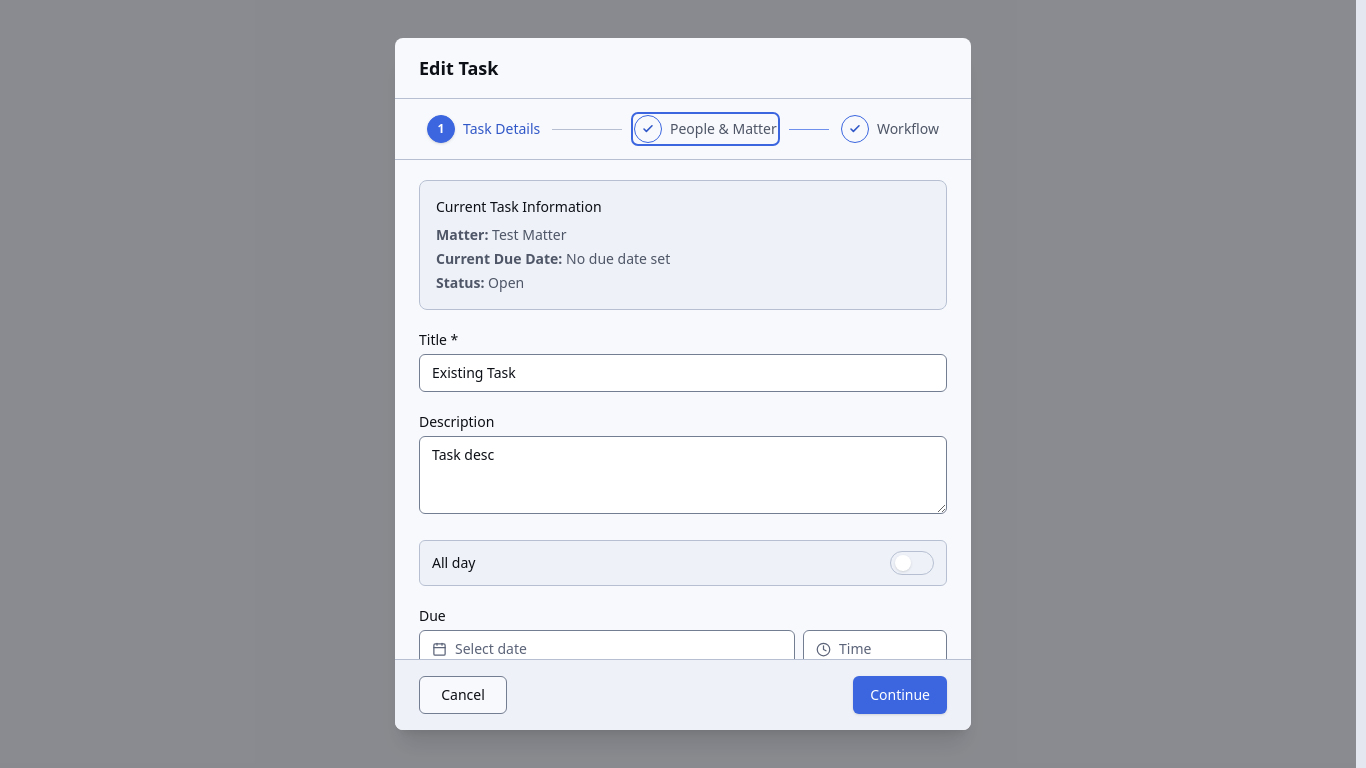
it: EditTaskModal › keeps the edited task out of its own dependency list
Click the button "Continue".
click(900, 695)  # box [853,676,947,714]
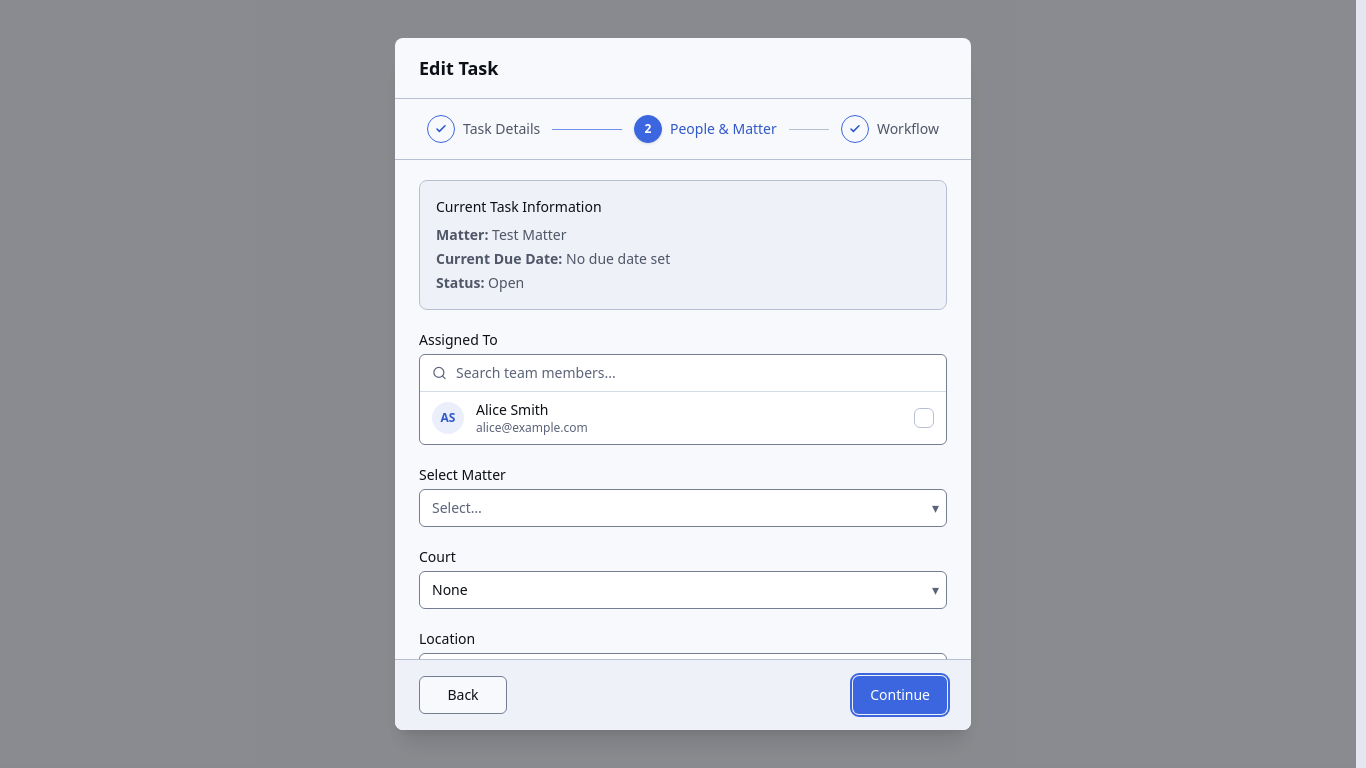
Click the button "Continue".
click(900, 695)  # box [853,676,947,714]
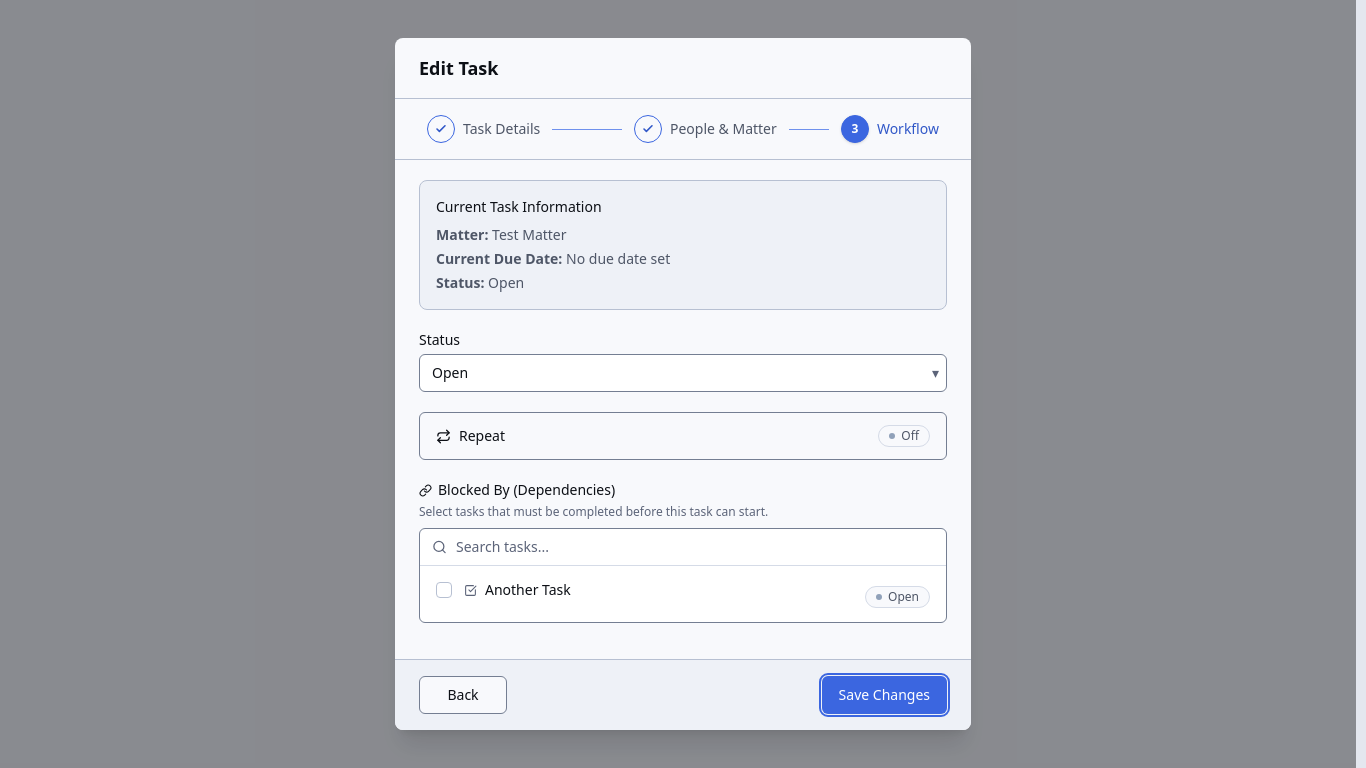
Expected: the text "Another Task" is shown, [485,580,571,600]
